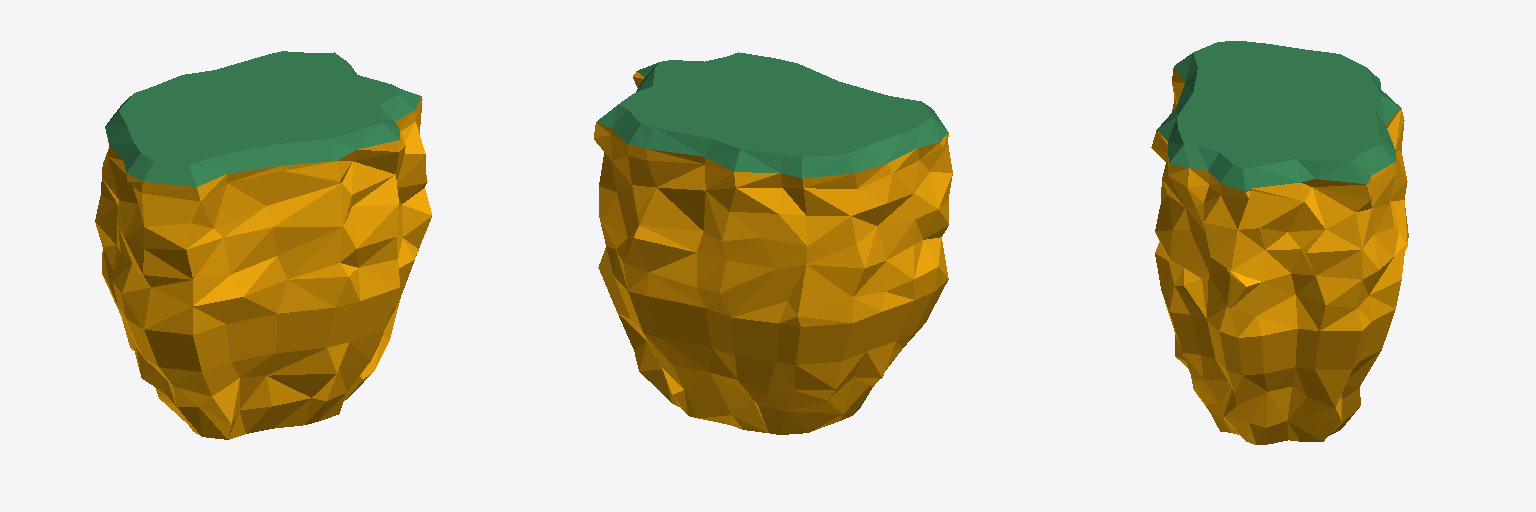
The picture shows the model from 3 angles: view 1: azimuth 30°, elevation 25°; view 2: azimuth 150°, elevation 25°; view 3: azimuth 270°, elevation 25°; orthographic projection.
Visible parts, largest first — view 1: Plane.005; view 2: Plane.005; view 3: Plane.005.
Part boxes in pixels (left/top/right/bottom): Plane.005: left=95, top=51, right=431, bottom=439; Plane.005: left=594, top=52, right=952, bottom=434; Plane.005: left=1151, top=41, right=1408, bottom=444.
Bounding box in the file's own units: 6.71 × 6.3 × 4.91.
1 materials, 1 textured.